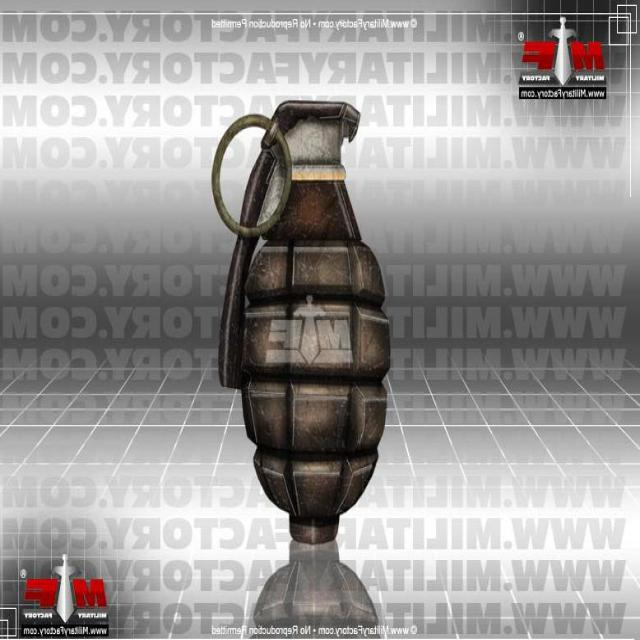grenade: (213, 100, 393, 545)
